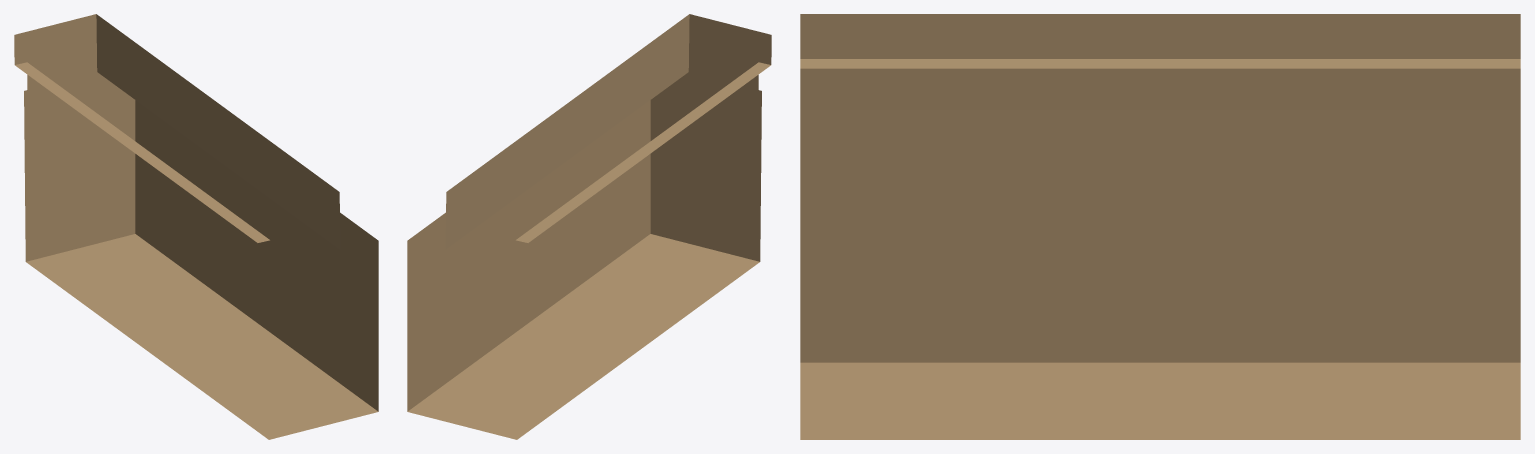
3 views of the same model, side by side, from view 1: azimuth 30°, elevation 25°; view 2: azimuth 150°, elevation 25°; view 3: azimuth 270°, elevation 25° (orthographic). The views are drawn at different scales.
Visible parts, largest first — view 1: 0_0_2_0_0_1_0_2_3_1; view 2: 0_0_2_0_0_1_0_2_3_1; view 3: 0_0_2_0_0_1_0_2_3_1.
Part boxes in pixels (<box>): 0_0_2_0_0_1_0_2_3_1: <box>14,14,378,439</box>; 0_0_2_0_0_1_0_2_3_1: <box>407,14,771,439</box>; 0_0_2_0_0_1_0_2_3_1: <box>800,14,1520,439</box>.
Bounding box in the file's own units: 6.9 × 12.56 × 24.
